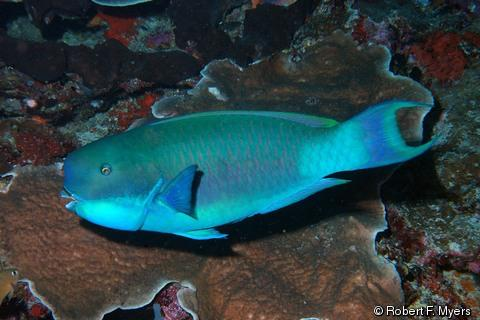Scaridae -Parrotfishes-: (55, 95, 442, 244)
